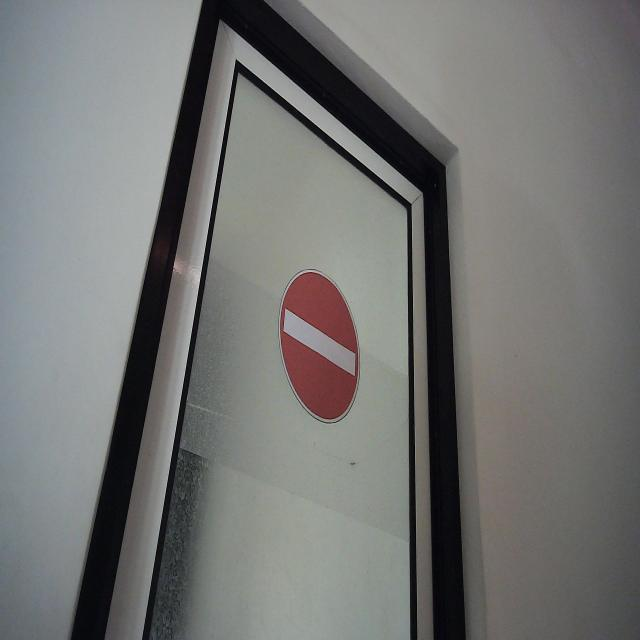no_entry: (276, 266, 362, 425)
